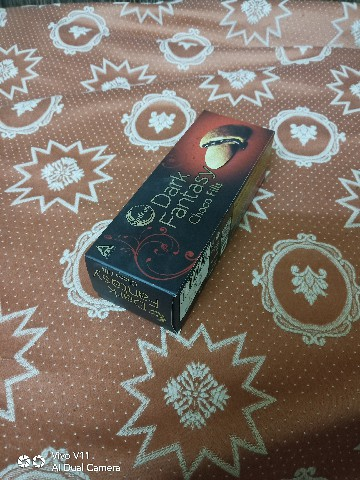darkfantasy big: (78, 95, 284, 340)
